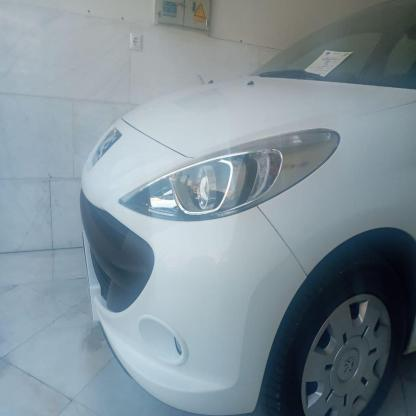Car: (72, 0, 416, 416)
